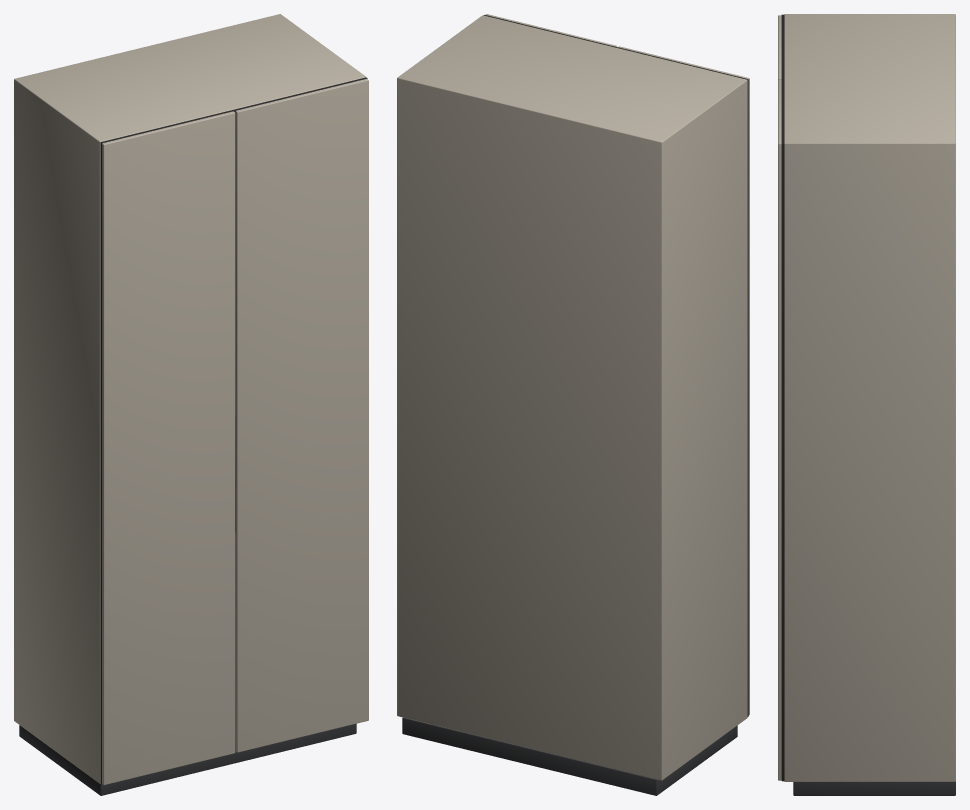
File: wardrobe.glb
The picture shows the model from 3 angles, left to right: view 1: azimuth 30°, elevation 25°; view 2: azimuth 150°, elevation 25°; view 3: azimuth 270°, elevation 25°; orthographic projection.
Parts seen in each view (by area): view 1: door0, door1, body, plinth, door_bed; view 2: body, plinth, door_bed, door0; view 3: body, door_bed, door1, plinth.
Part boxes in pixels (x1,y1,x2,y2): door0: (102, 111, 235, 785); door1: (235, 79, 368, 752); body: (14, 14, 366, 783); plinth: (19, 723, 356, 795); door_bed: (100, 77, 367, 784); body: (397, 15, 747, 780); plinth: (402, 717, 737, 795); door_bed: (484, 15, 748, 716); door0: (618, 46, 749, 715); body: (784, 14, 955, 781); door_bed: (781, 14, 784, 781); door1: (778, 80, 781, 780); plinth: (793, 781, 955, 795).
Bounding box in the file's own units: 1 × 2.36 × 0.58.
